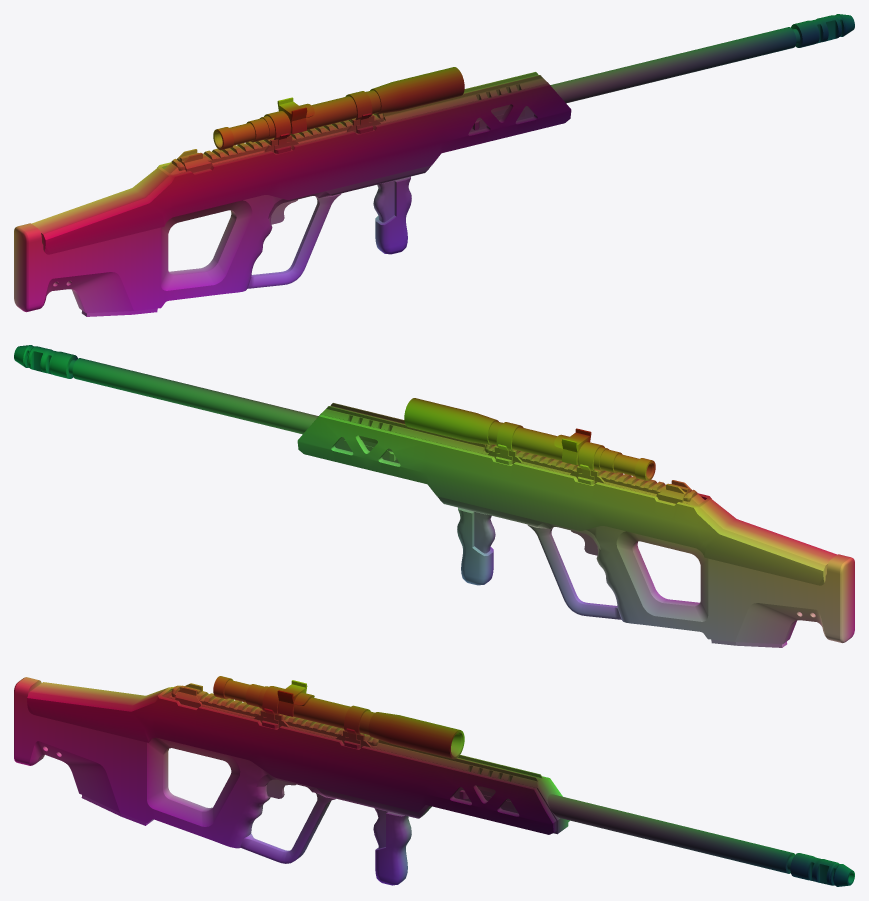
File: Gun_Sniper.fbx
3 renders of one model, top to bottom at view 1: azimuth 30°, elevation 25°; view 2: azimuth 150°, elevation 25°; view 3: azimuth 330°, elevation 25°, orthographic.
Parts seen in each view (by area): view 1: Gun_sniper; view 2: Gun_sniper; view 3: Gun_sniper.
Part boxes in pixels (box(x1,y1,x2,y2)): Gun_sniper: box(14, 14, 854, 316); Gun_sniper: box(14, 345, 854, 647); Gun_sniper: box(14, 676, 854, 886).
Size of the model in its own units: 123 by 24.91 by 4.75.
